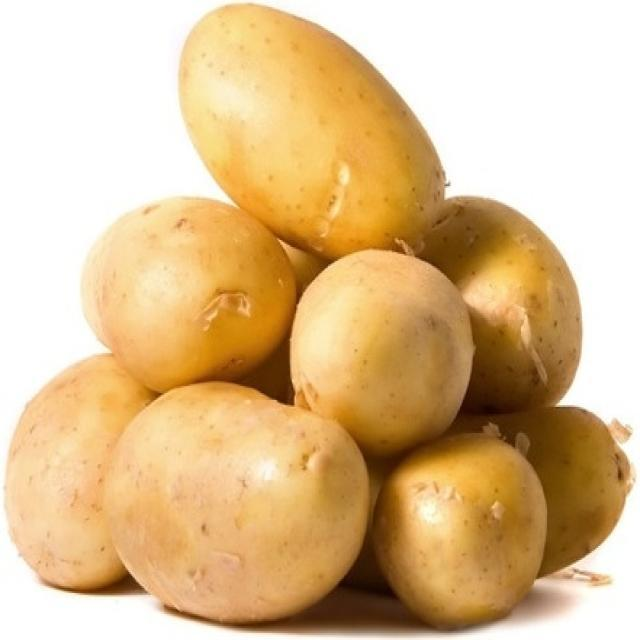potato: (181, 6, 449, 267), (109, 378, 370, 626), (81, 196, 297, 394), (3, 347, 157, 592), (289, 250, 476, 445), (421, 194, 585, 415), (377, 438, 543, 619)
